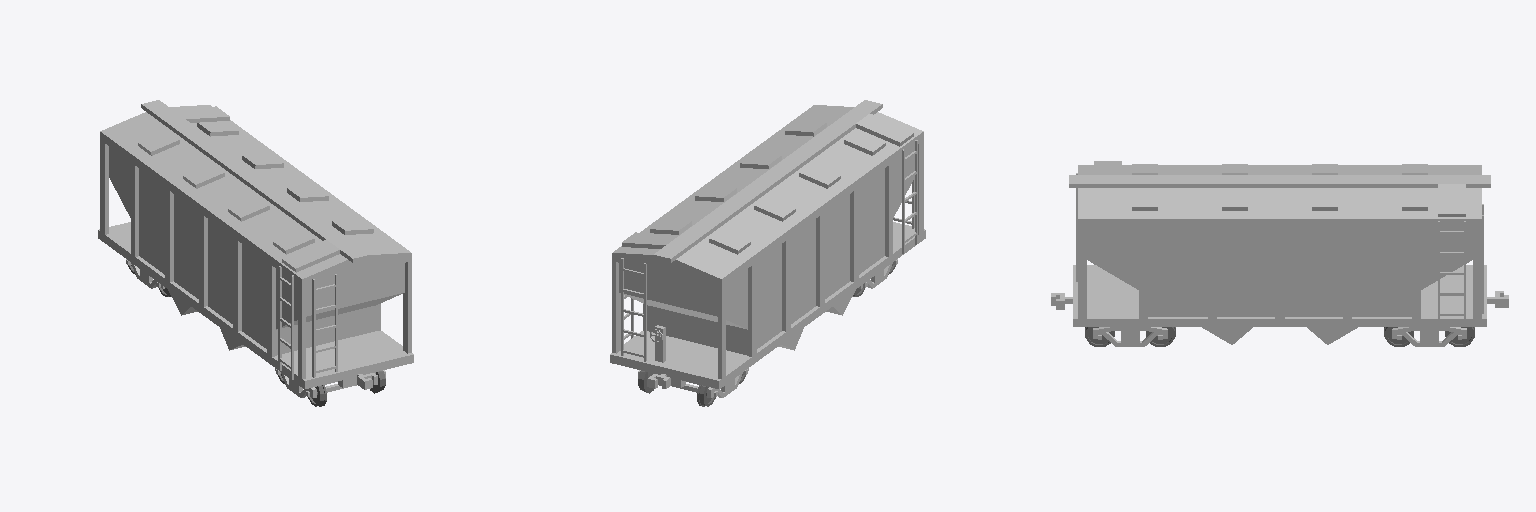
The model's file is dlxtrains_industrial_wagons_hopper_type2.obj.
The picture shows the model from 3 angles: view 1: azimuth 30°, elevation 25°; view 2: azimuth 150°, elevation 25°; view 3: azimuth 270°, elevation 25°; orthographic projection.
Parts seen in each view (by area): view 1: covered_hopper_wagon; view 2: covered_hopper_wagon; view 3: covered_hopper_wagon.
Part boxes in pixels (bbox=[...]): covered_hopper_wagon: bbox=[98, 100, 413, 406]; covered_hopper_wagon: bbox=[610, 100, 925, 406]; covered_hopper_wagon: bbox=[1051, 161, 1508, 346].
Bounding box in the file's own units: 17.5 × 22.6 × 61.25.